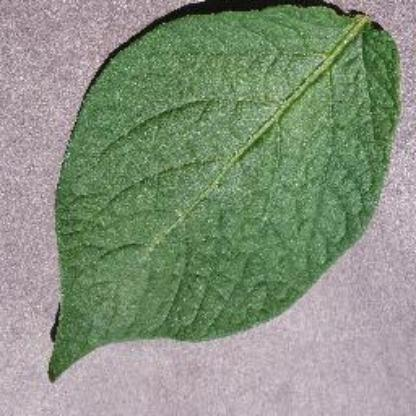Healthy-plant: (44, 5, 400, 368)
